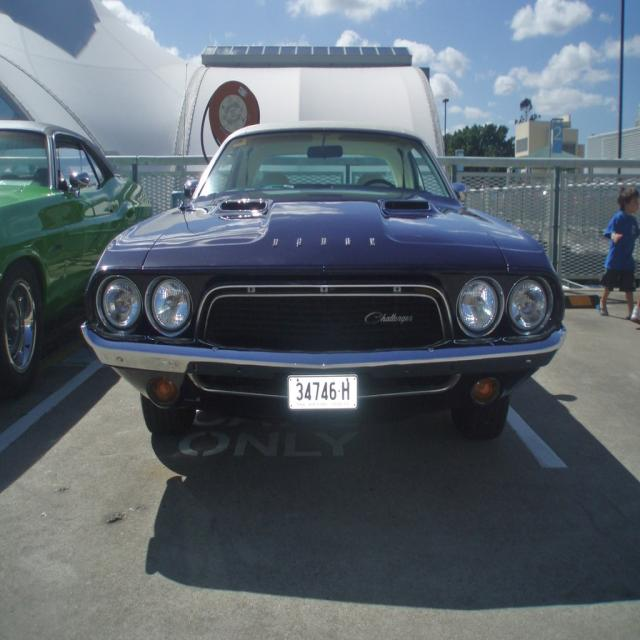car: (82, 118, 567, 434)
